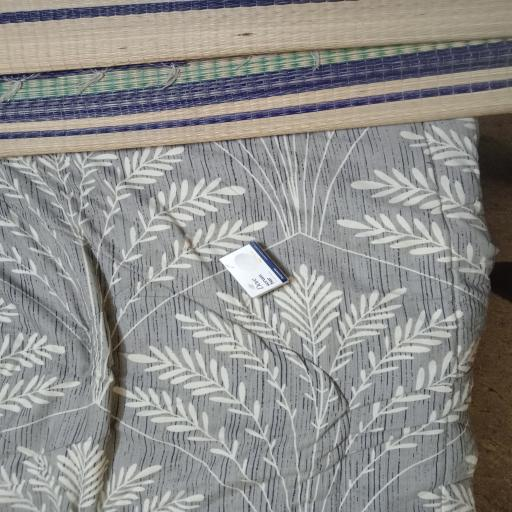Dove`1: (219, 233, 290, 307)
